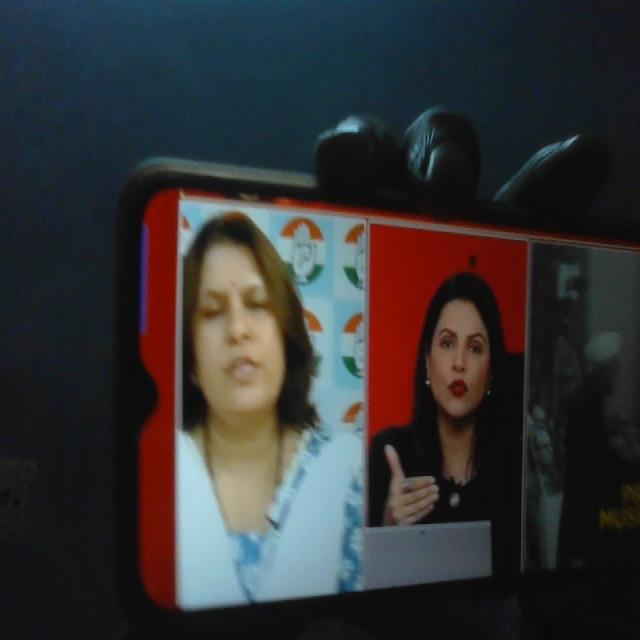fake: (180, 201, 300, 428)
